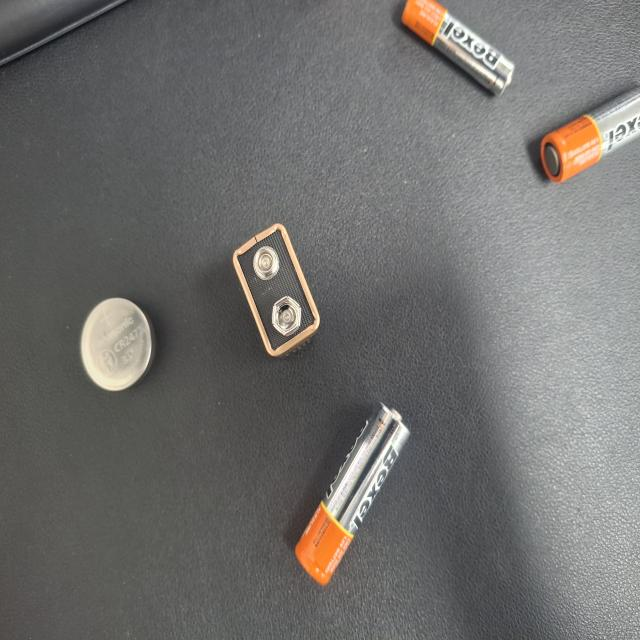9V: (167, 426, 270, 543)
AA: (303, 307, 437, 458), (61, 0, 135, 133)
AAA: (0, 167, 73, 320)
